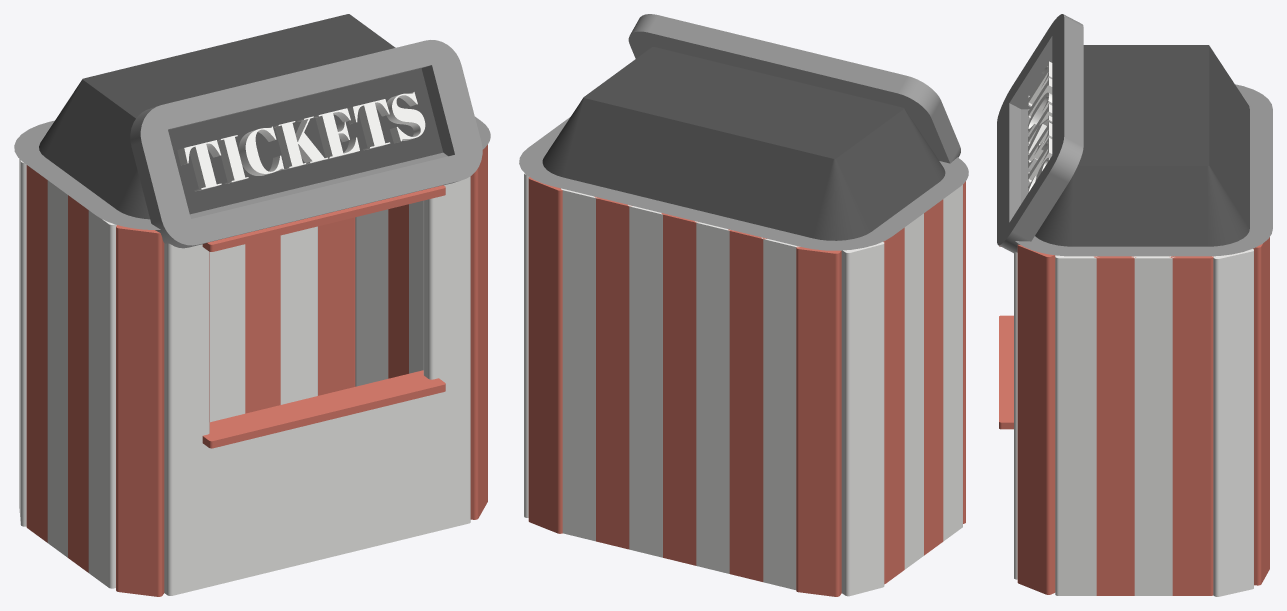
The model's file is booth.glb.
The picture shows the model from 3 angles, left to right: view 1: azimuth 30°, elevation 25°; view 2: azimuth 150°, elevation 25°; view 3: azimuth 270°, elevation 25°; orthographic projection. The views are drawn at different scales.
Visible parts, largest first — view 1: booth, booth_roof, booth_front_bar, booth_sign-base, booth_ledge_bottom, booth_ledge_top; view 2: booth, booth_roof, booth_sign-base; view 3: booth, booth_roof, booth_sign-base, booth_ledge_bottom.
Part boxes in pixels (bbox=[...]): booth: bbox=[19, 92, 487, 596]; booth_roof: bbox=[39, 14, 443, 219]; booth_front_bar: bbox=[202, 393, 438, 586]; booth_sign-base: bbox=[14, 40, 490, 248]; booth_ledge_bottom: bbox=[202, 370, 445, 448]; booth_ledge_top: bbox=[202, 185, 445, 251]; booth: bbox=[524, 172, 965, 596]; booth_roof: bbox=[542, 47, 945, 240]; booth_sign-base: bbox=[519, 14, 968, 250]; booth: bbox=[1014, 61, 1269, 596]; booth_roof: bbox=[1035, 45, 1249, 246]; booth_sign-base: bbox=[997, 14, 1272, 256]; booth_ledge_bottom: bbox=[999, 315, 1013, 429].
Bounding box in the file's own units: 0.2775 × 0.3211 × 0.185.
